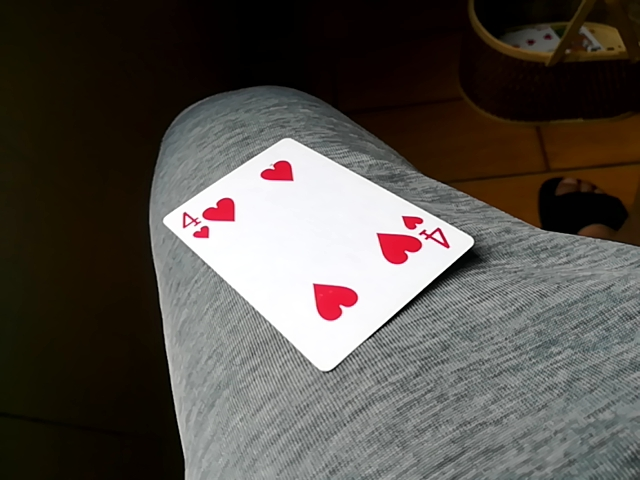hx 4: (157, 133, 478, 372)
